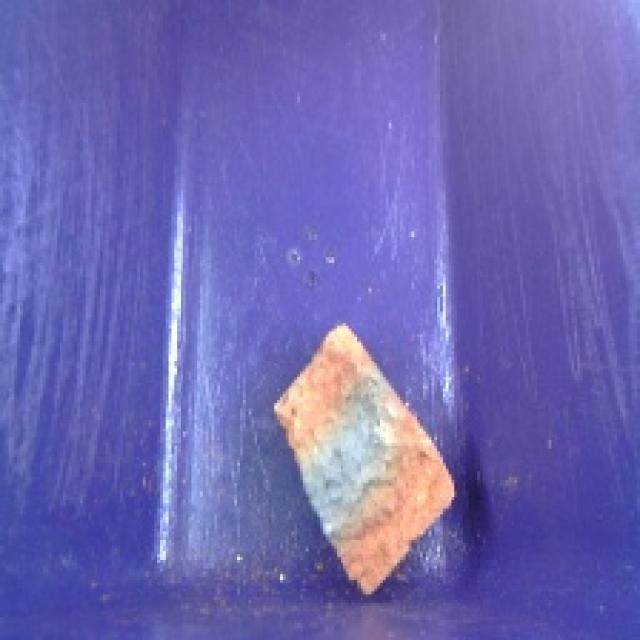brick: (259, 314, 462, 606)
